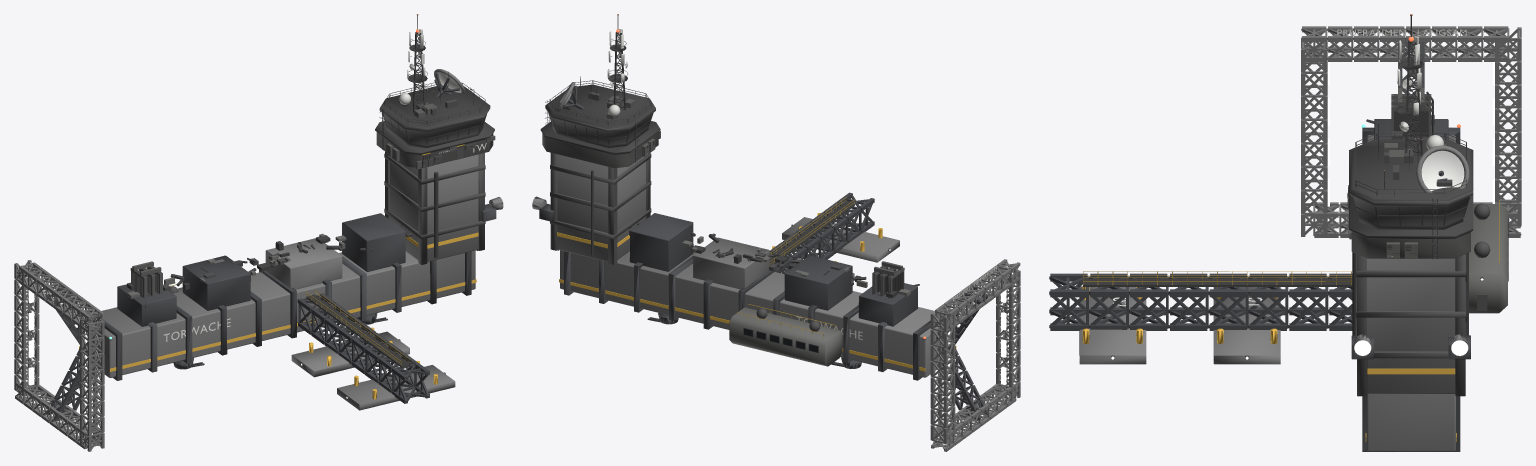
The model's file is Torwache.glb.
3 views of the same model, side by side, from view 1: azimuth 30°, elevation 25°; view 2: azimuth 150°, elevation 25°; view 3: azimuth 270°, elevation 25° (orthographic). The views are drawn at different scales.
Parts seen in each view (by area): view 1: Torwache_lack, Torwache_matt, Torwache_glow_Fenster kalt; view 2: Torwache_lack, Torwache_matt; view 3: Torwache_lack, Torwache_matt, Torwache_glow_Fenster kalt.
Boxes of the visible parts, bbox=[...] form: Torwache_lack: bbox=[14, 14, 503, 451]; Torwache_matt: bbox=[44, 29, 494, 399]; Torwache_glow_Fenster kalt: bbox=[28, 290, 87, 426]; Torwache_lack: bbox=[532, 14, 1020, 451]; Torwache_matt: bbox=[557, 29, 996, 371]; Torwache_lack: bbox=[1049, 14, 1521, 451]; Torwache_matt: bbox=[1082, 28, 1508, 441]; Torwache_glow_Fenster kalt: bbox=[1327, 60, 1494, 206].
Size of the model in its own units: 99.31 by 70.46 by 63.33.
